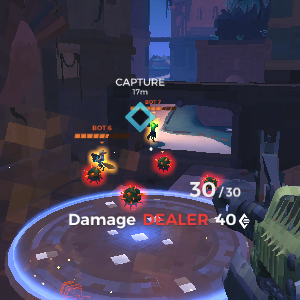model: (87, 145, 117, 176), (143, 114, 163, 146)
